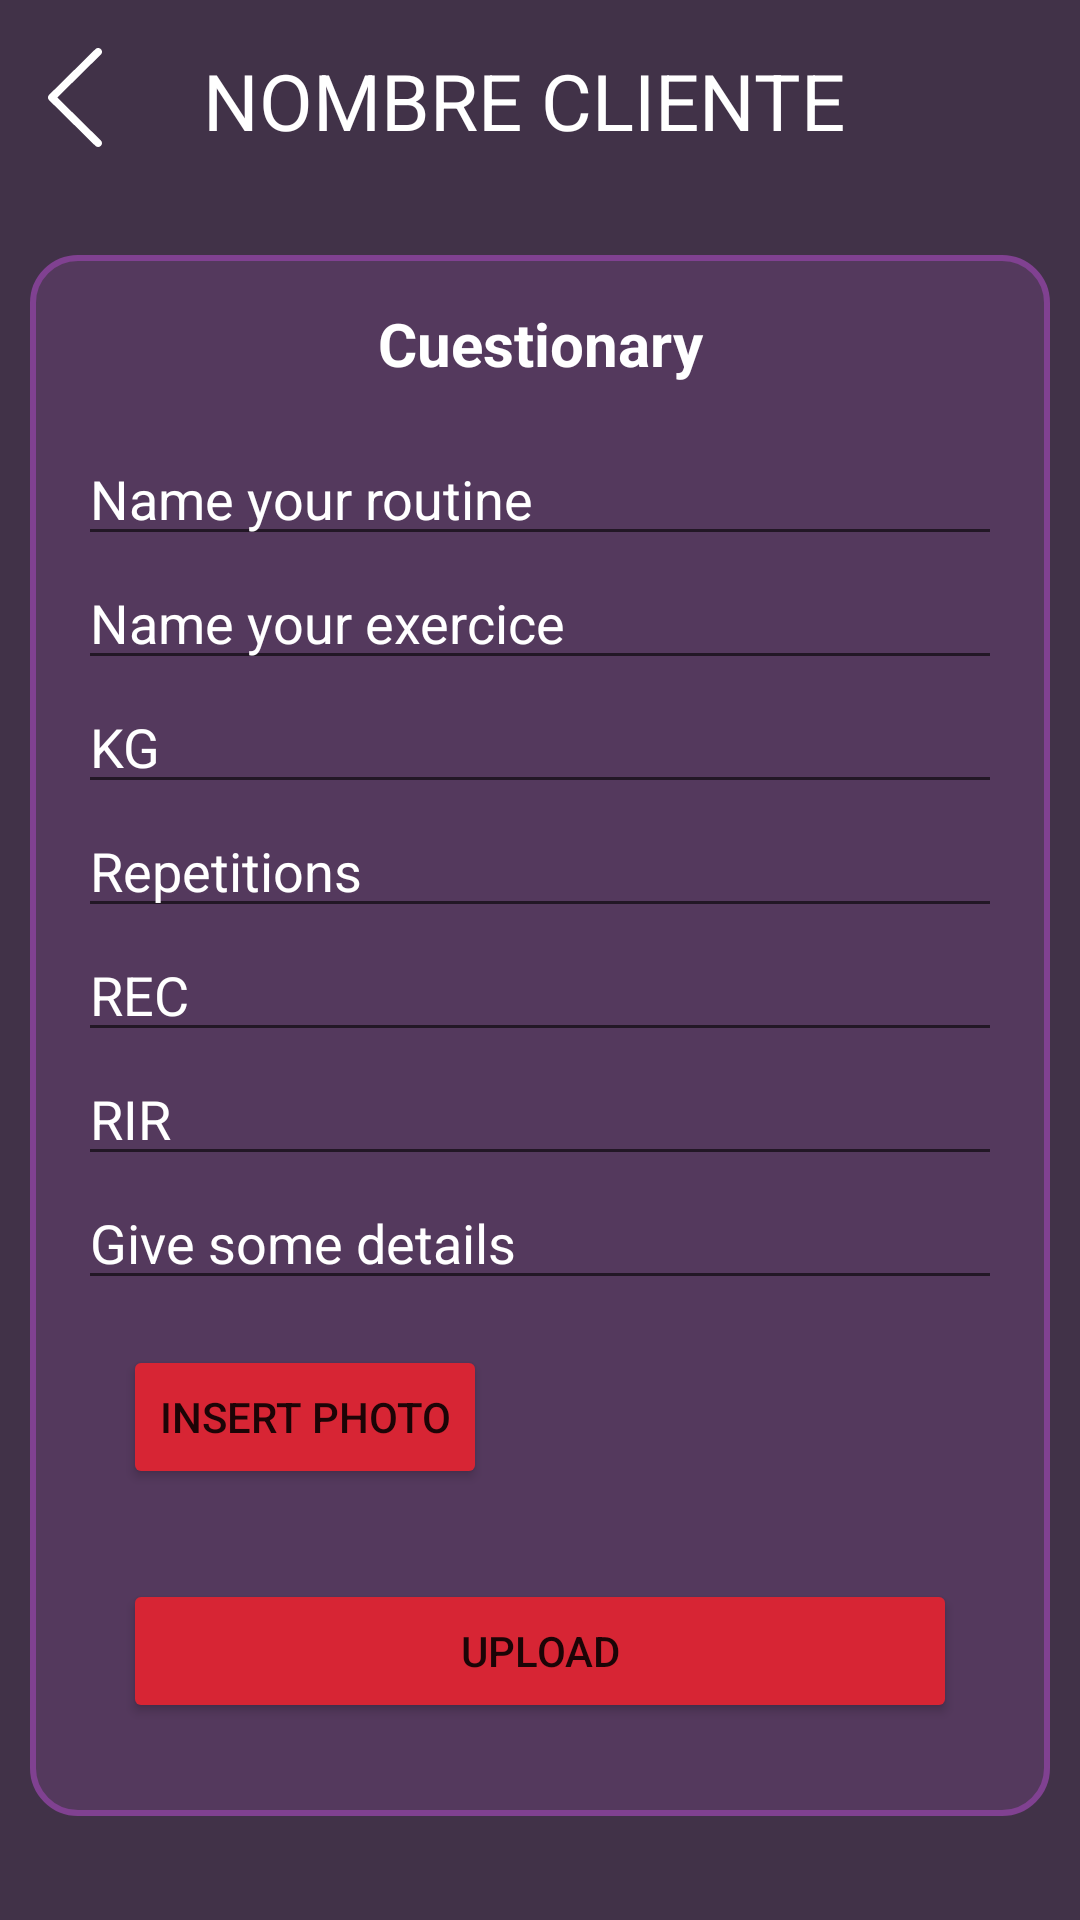

Icon bounding boxes for this 1080w x 1920h phone screenshot, format BBox(x1, y1, x2, y2):
back: BBox(48, 48, 102, 147)
